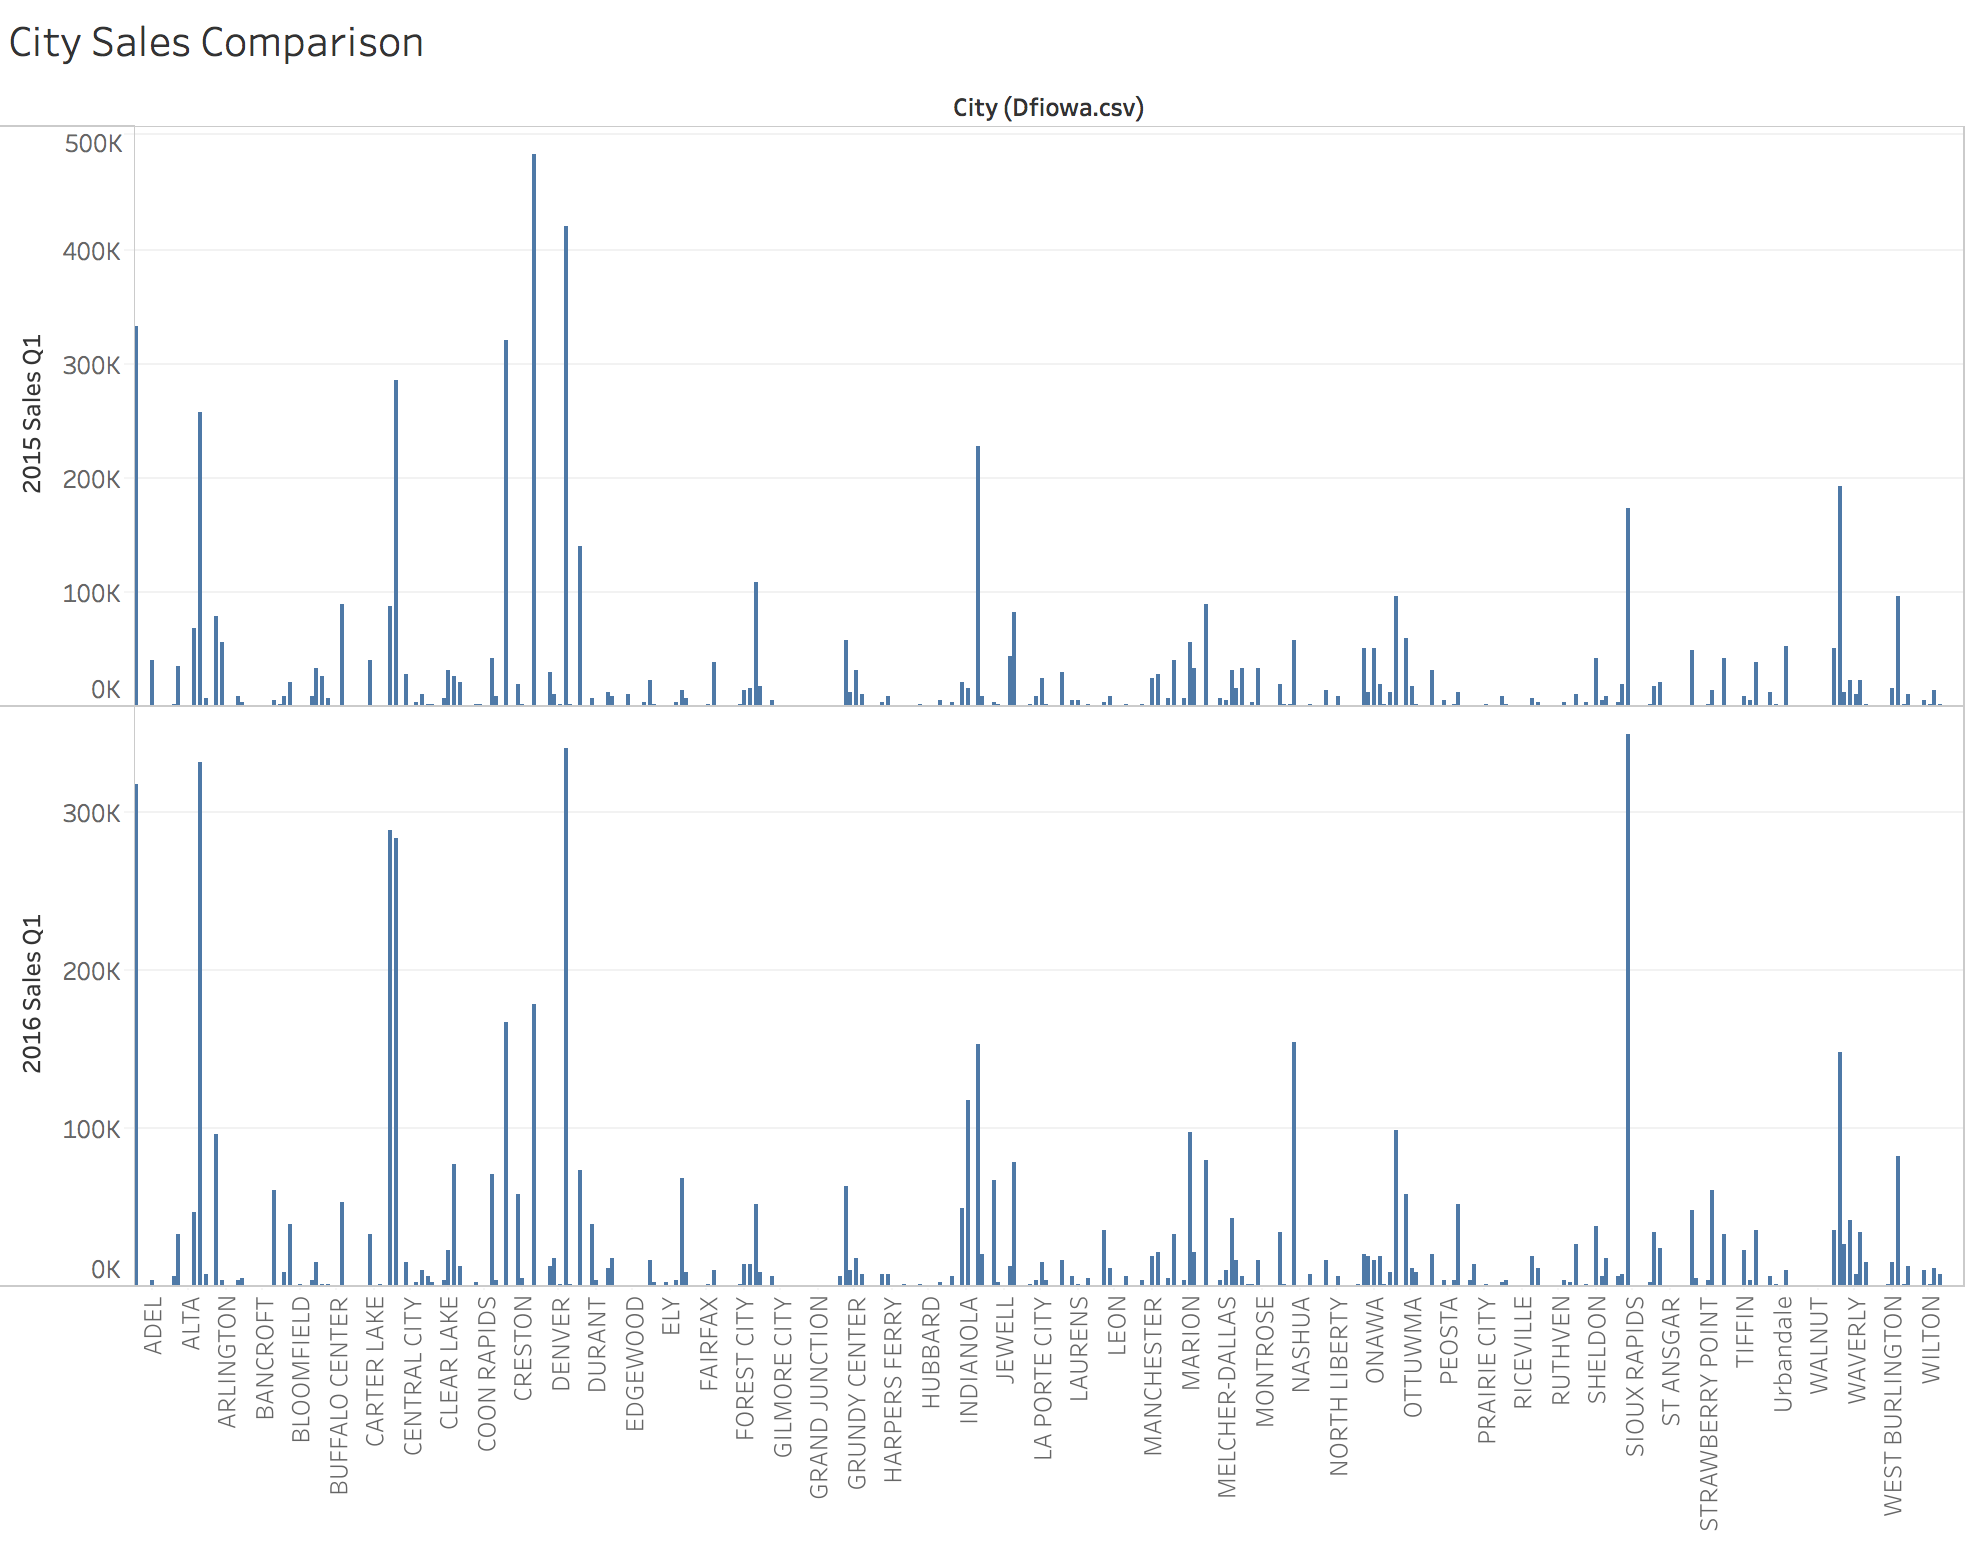

The dashboard page shown, as its layout file describes it:
{"tool":"tableau","page":{"name":"Dashboard 3","canvas":[1000,800],"ordinal":2},"visuals":[{"type":"worksheet","title":"Sheet 2","mark":"Automatic","rows":["track"],"cols":["Ranking"],"box":[0,0,1000,800]}]}

Visuals, with their boxes in screenshot pixels (x1, y1, x2, y2), scaled from the page's 1000x800 canvas onto the 1968x1568 screenshot:
"Sheet 2" worksheet: <box>0,0,1967,1567</box>
